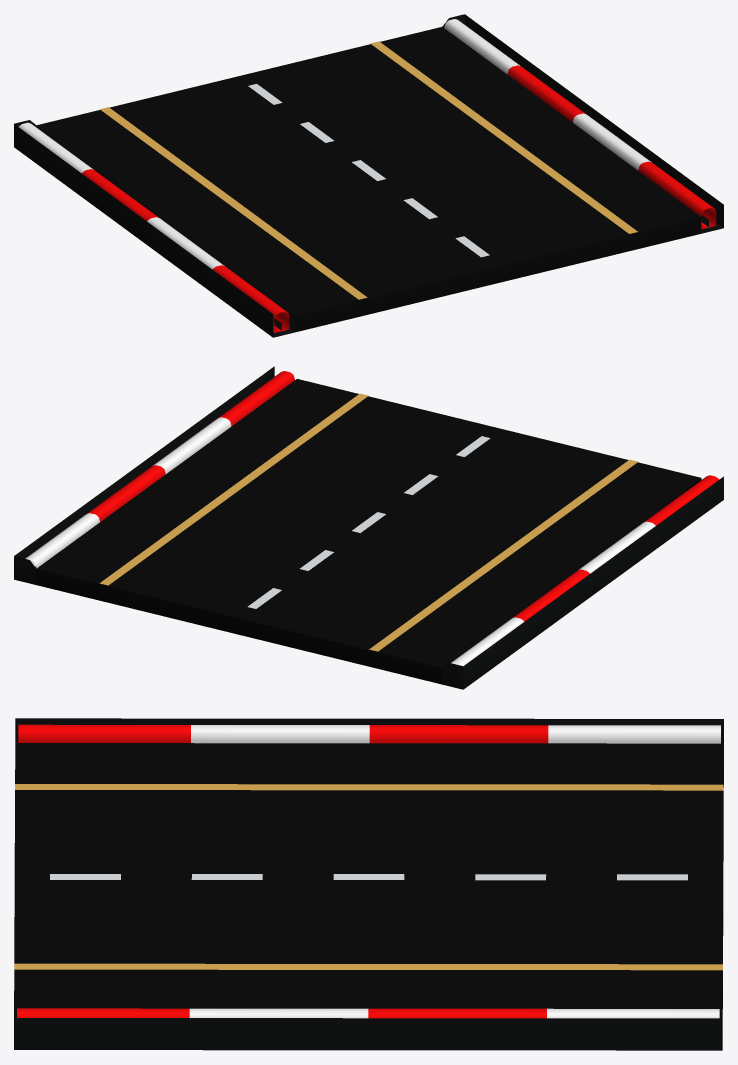
3 views of the same model, one above another, from view 1: azimuth 30°, elevation 25°; view 2: azimuth 150°, elevation 25°; view 3: azimuth 270°, elevation 25° (orthographic). The views are drawn at different scales.
Visible parts, largest first — view 1: road, Side2_StraightTrack01_Cube.001-Mesh.001, Side_StraightTrack01_Cube.001-Mesh.002; view 2: road, Side2_StraightTrack01_Cube.001-Mesh.001, Side_StraightTrack01_Cube.001-Mesh.002; view 3: road, Side_StraightTrack01_Cube.001-Mesh.002, Side2_StraightTrack01_Cube.001-Mesh.001.
Part boxes in pixels (x1,y1,x2,y2): road: [14, 14, 723, 337]; Side2_StraightTrack01_Cube.001-Mesh.001: [444, 19, 716, 229]; Side_StraightTrack01_Cube.001-Mesh.002: [19, 122, 289, 332]; road: [14, 366, 723, 689]; Side2_StraightTrack01_Cube.001-Mesh.001: [25, 371, 294, 568]; Side_StraightTrack01_Cube.001-Mesh.002: [451, 475, 719, 666]; road: [14, 718, 723, 1050]; Side_StraightTrack01_Cube.001-Mesh.002: [18, 724, 720, 743]; Side2_StraightTrack01_Cube.001-Mesh.001: [17, 1008, 719, 1018].
Bounding box in the file's own units: 2 × 0.1 × 2.
4 materials, 1 textured.
